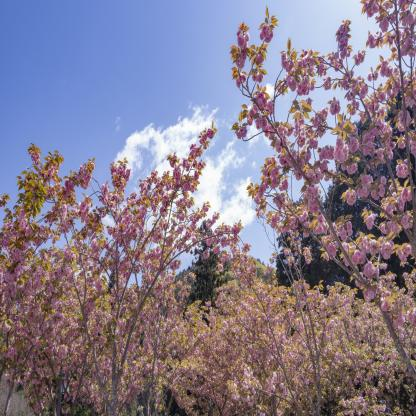YaeSakura: (225, 0, 416, 416), (94, 122, 219, 416), (242, 145, 342, 416), (212, 212, 286, 416), (22, 125, 62, 416), (4, 132, 41, 401), (52, 142, 88, 415), (68, 154, 105, 415), (150, 255, 190, 415), (142, 182, 163, 416), (175, 298, 215, 416), (209, 271, 240, 415), (0, 176, 6, 392)
